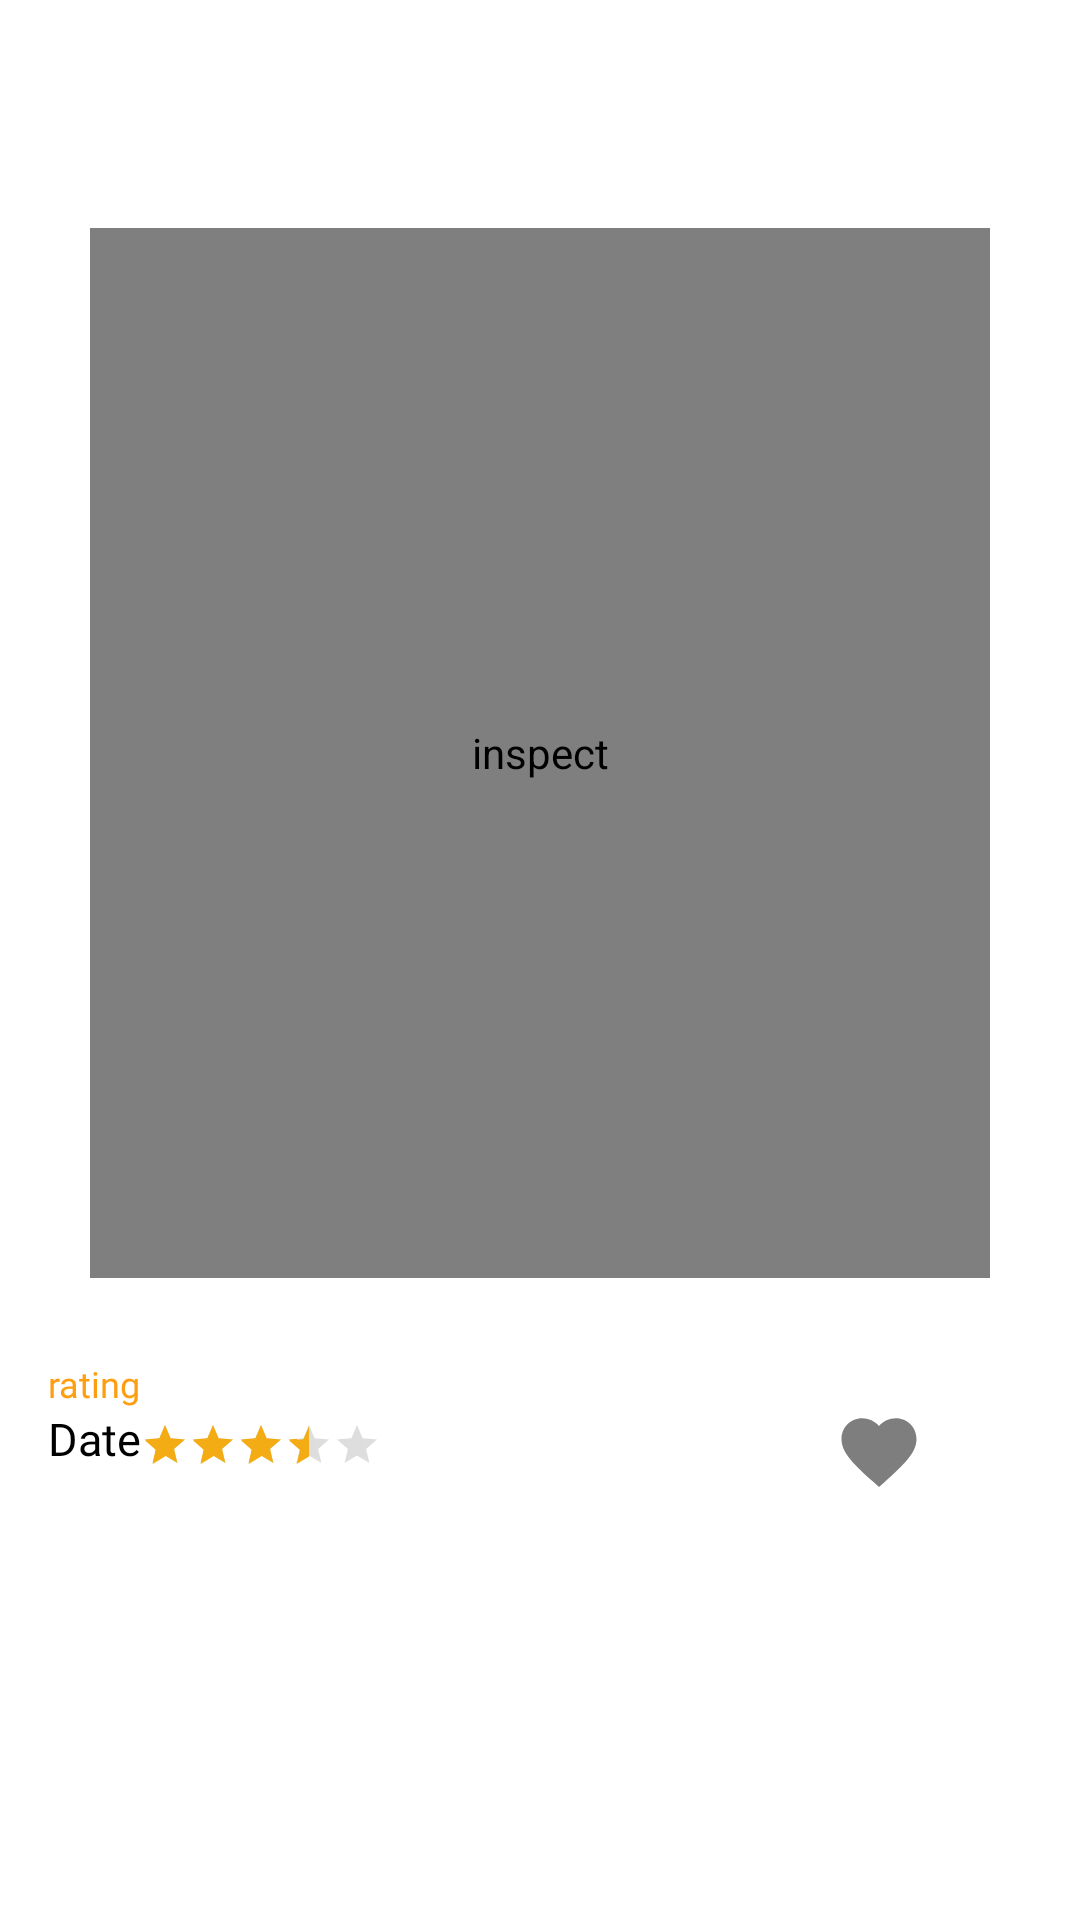

Icon bounding boxes for this 1080 × 1920 phone screenshot, format (x1, y1, x2, y2):
heart: (841, 1418, 917, 1487)
